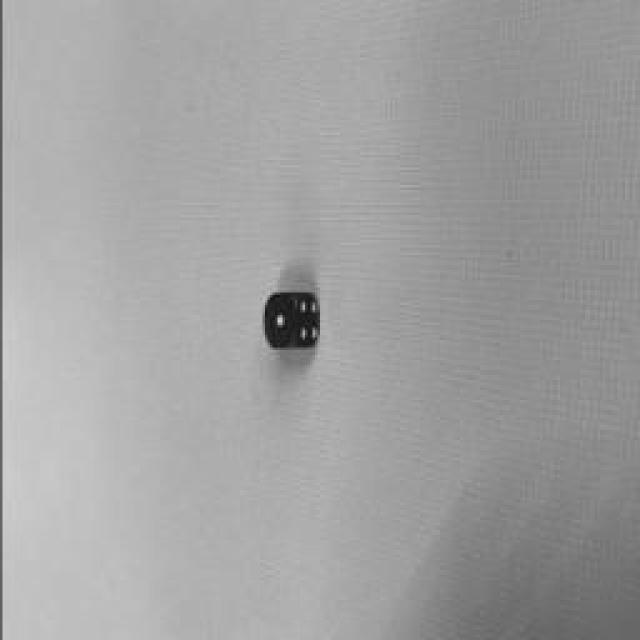dice_1: (262, 292, 298, 350)
